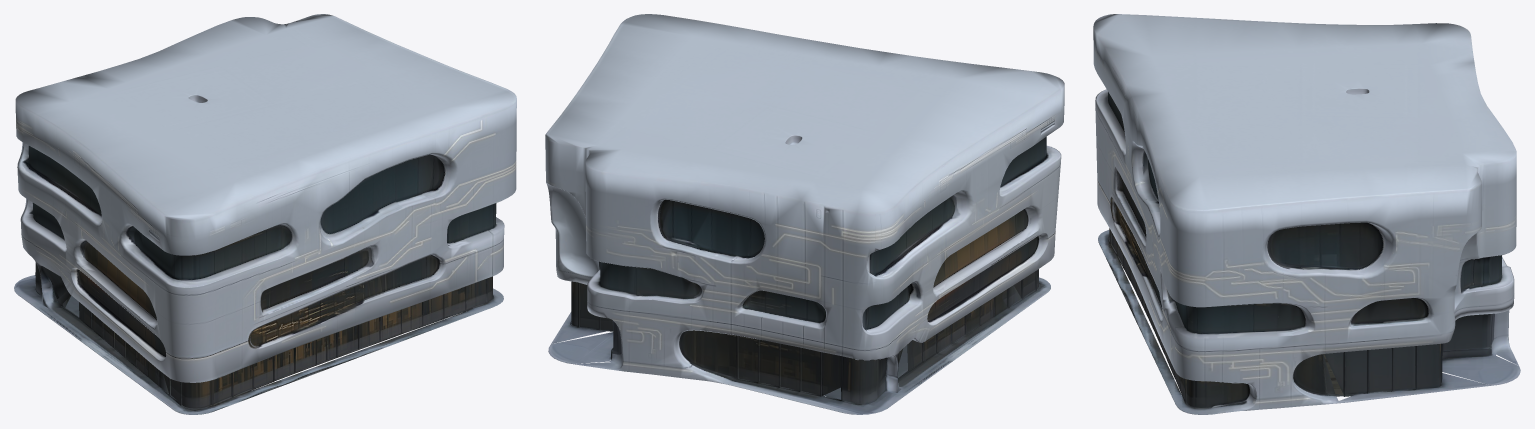
Rendered from town-white-block.2048.glb.
3 renders of one model, left to right at view 1: azimuth 30°, elevation 25°; view 2: azimuth 150°, elevation 25°; view 3: azimuth 270°, elevation 25°, orthographic. The views are drawn at different scales.
Visible parts, largest first — view 1: tripo_node_50bce5b3-5bcc-4caa-ae86-3bb315136980; view 2: tripo_node_50bce5b3-5bcc-4caa-ae86-3bb315136980; view 3: tripo_node_50bce5b3-5bcc-4caa-ae86-3bb315136980.
Boxes of the visible parts, <box> form: tripo_node_50bce5b3-5bcc-4caa-ae86-3bb315136980: <box>14,14,516,414</box>; tripo_node_50bce5b3-5bcc-4caa-ae86-3bb315136980: <box>545,14,1064,414</box>; tripo_node_50bce5b3-5bcc-4caa-ae86-3bb315136980: <box>1093,14,1520,414</box>.
Size of the model in its own units: 0.9995 by 0.4946 by 0.9087.
1 material, 1 textured.
